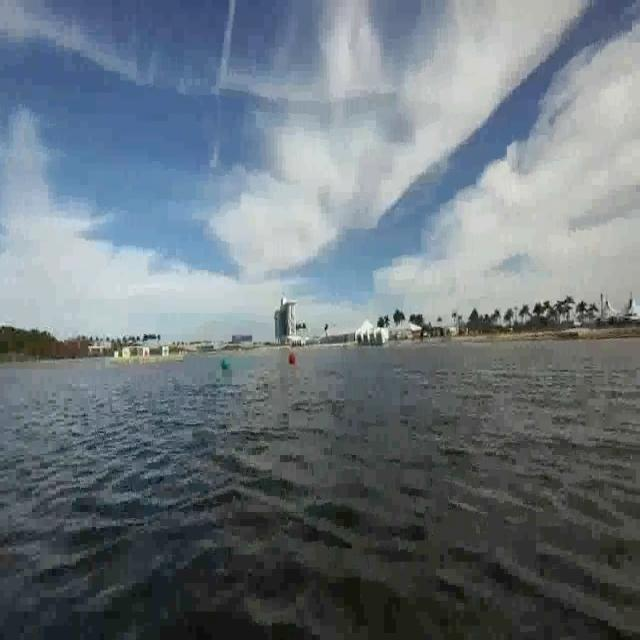green-buoy: (220, 357, 229, 370)
red-buoy: (288, 354, 295, 366)
